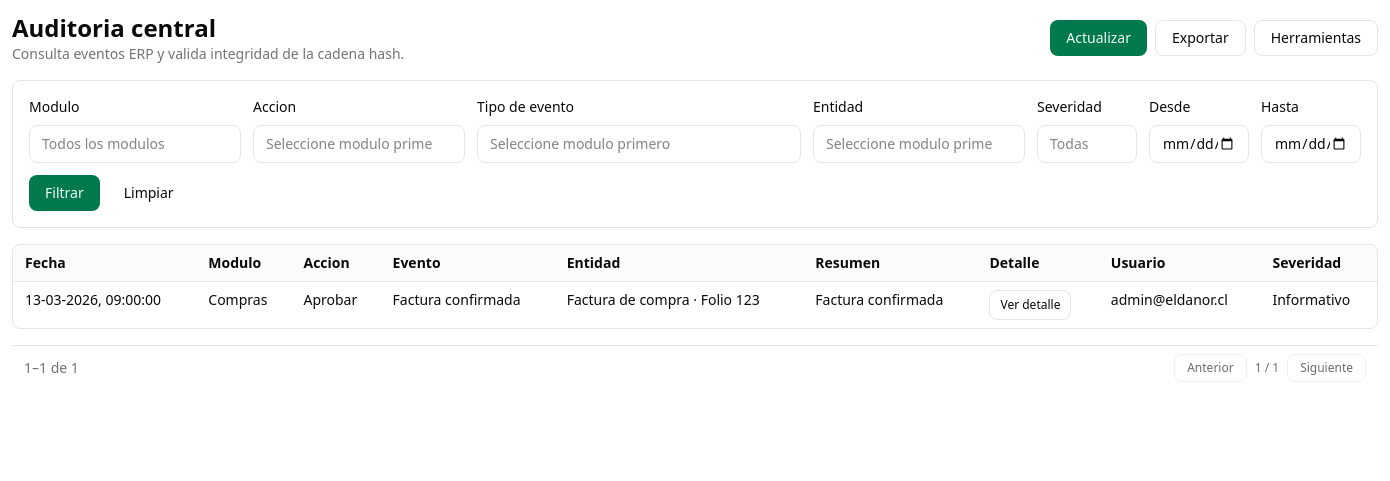
Test: auditoria/AuditoriaEventosPage › carga eventos y permite verificar integridad
Expected: the heading "Auditoria central" is shown, [12, 11, 216, 44]
Click the button "Herramientas".
click(1316, 38)  # box [1254, 20, 1378, 56]
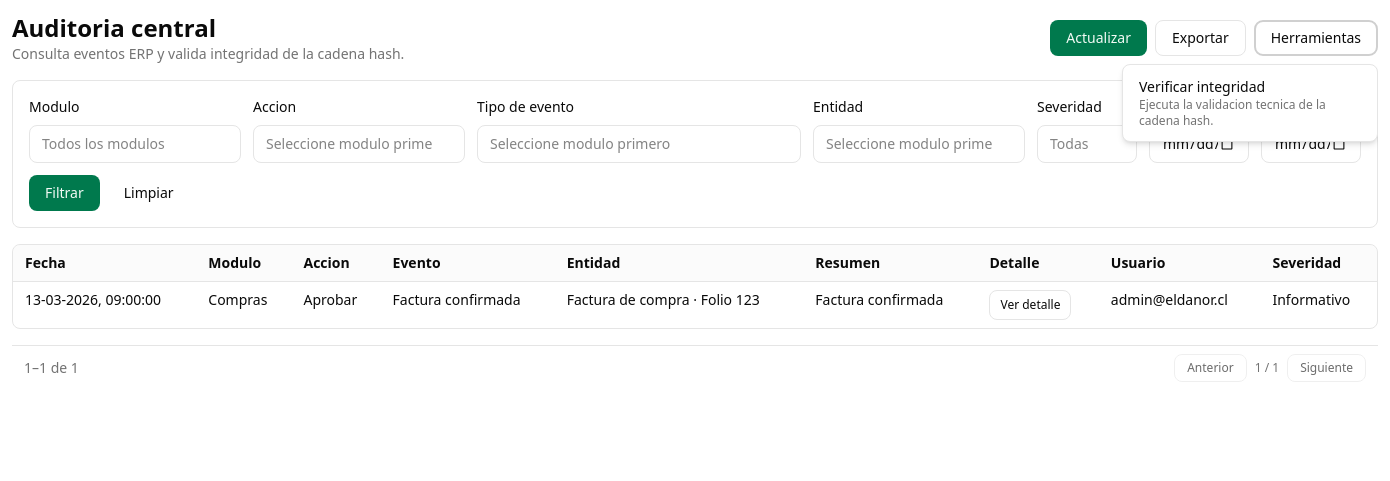
Click the button "Verificar integridad".
click(1250, 103)  # box [1127, 69, 1373, 137]
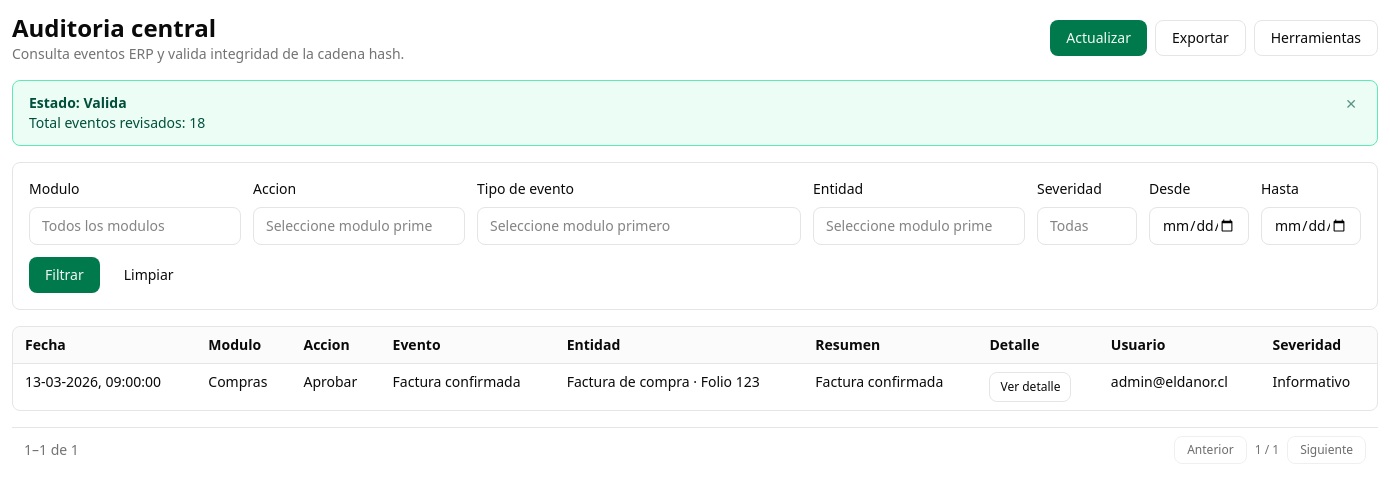
Result: the text "Estado: Valida" is shown at [29, 93, 127, 112]
Result: the text "Total eventos revisados: 18" is shown at [29, 113, 205, 133]
